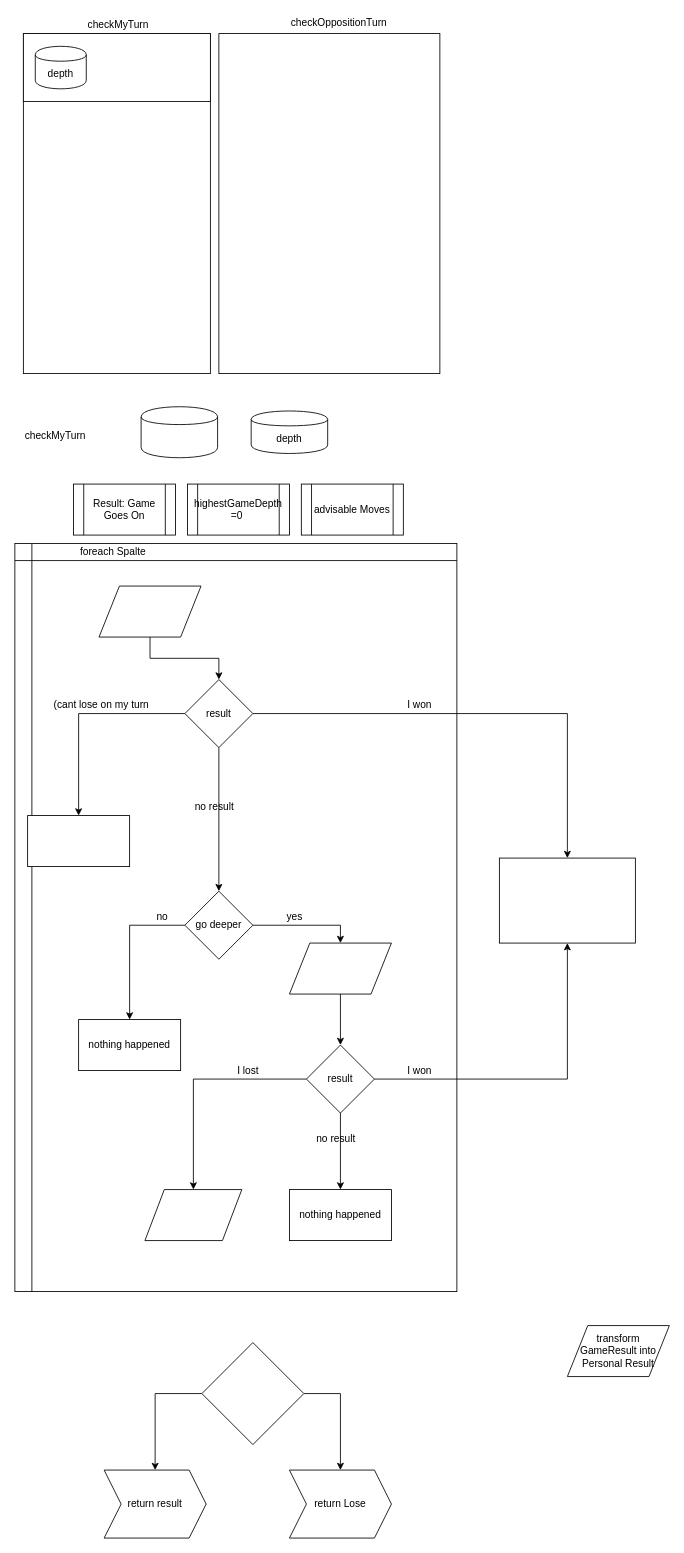
The diagram is 684 pixels wide and 1553 high, and some of its shapes have lost their labels. The centre of each missing label's shape, as x and y in pixels:
"advisable Moves is empty" goes at (252,1393).
"GameState" goes at (179,432).
"investigate OppositionTurn" goes at (340,968).
"remember move remember depth remember Iwon" goes at (567,900).
"remove coloumn from advisable moves" goes at (193,1215).
"try Spalte" goes at (149,611).
